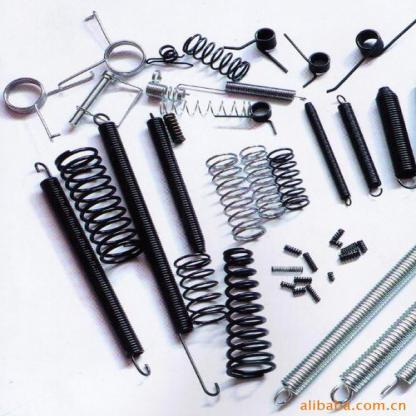FOD: (91, 106, 222, 399), (32, 159, 156, 381), (266, 242, 416, 408), (56, 143, 146, 269), (329, 298, 415, 404), (220, 244, 278, 382), (1, 69, 99, 142), (203, 149, 267, 242), (302, 98, 354, 206), (333, 91, 384, 200), (374, 81, 416, 192), (174, 249, 229, 326), (238, 141, 288, 223), (180, 31, 253, 84), (224, 25, 291, 76), (282, 31, 335, 90), (268, 145, 311, 216), (157, 96, 257, 120), (378, 351, 415, 394), (156, 98, 187, 145), (283, 242, 304, 257), (291, 274, 313, 285)
